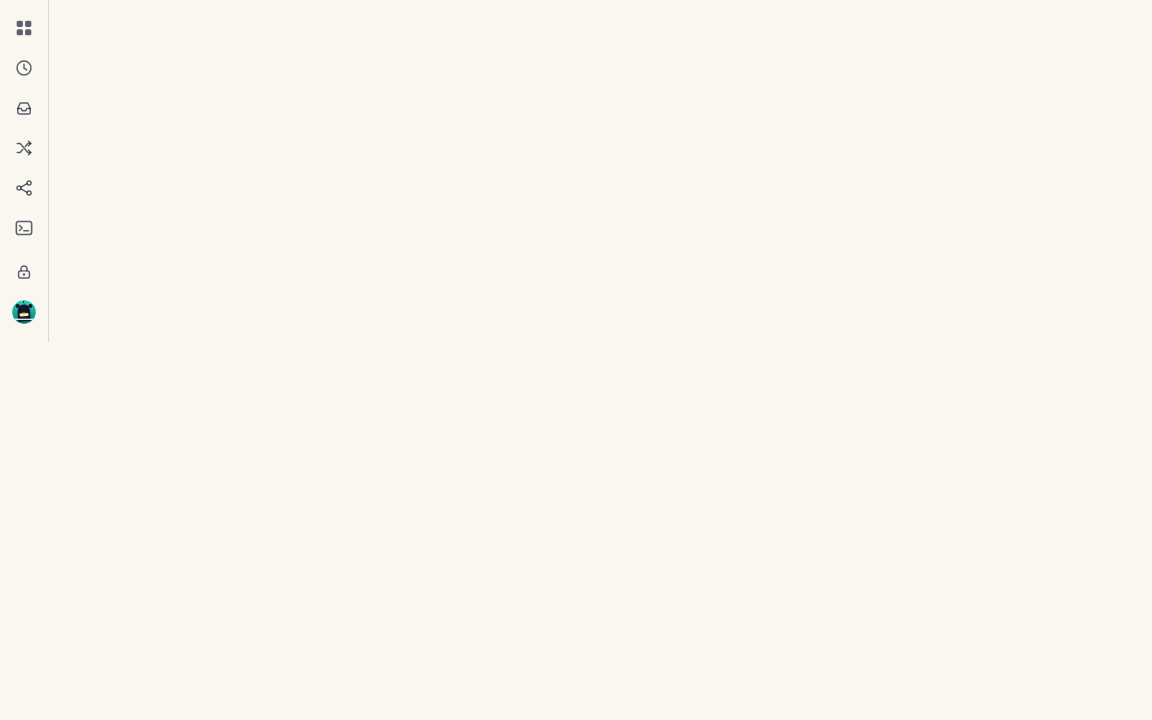
Test: IconRail（48px 图标轨） › Otty 弹层背板：点击弹层外任意区域（含主区拖拽面）即收起
The width and height of the screenshot is (1152, 720).
Click the button with test id "rail-otty".
click(24, 312)  # box [6,294,42,330]
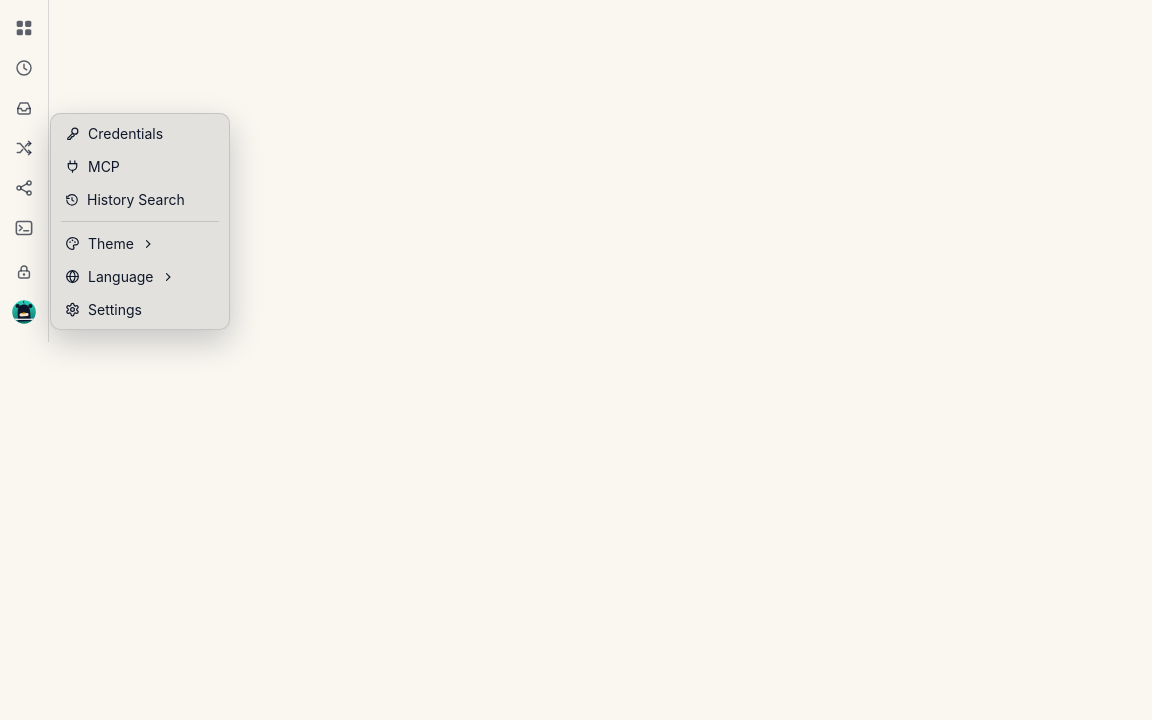
Check: the element with test id "rail-flyout-main" is shown, box [50,113,230,330]
Press the mouse on the element with test id "rail-flyout-backdrop" at (576, 360), box [0,0,1151,719]
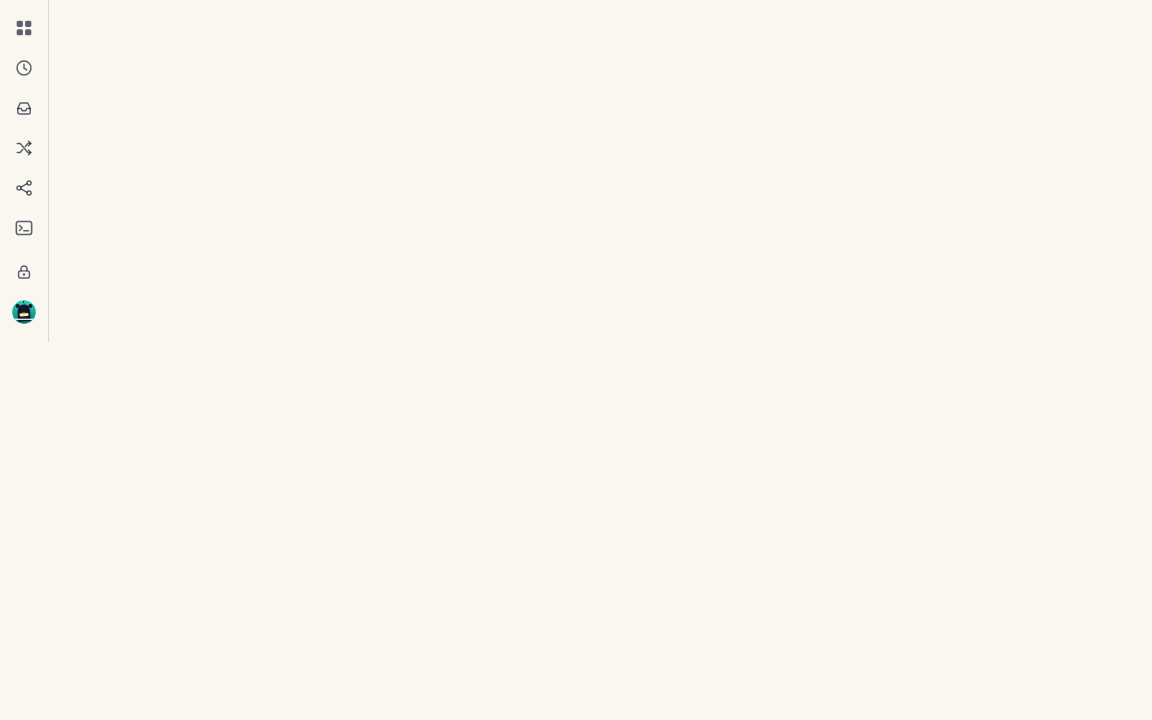
Check: the element with test id "rail-flyout-main" is gone
